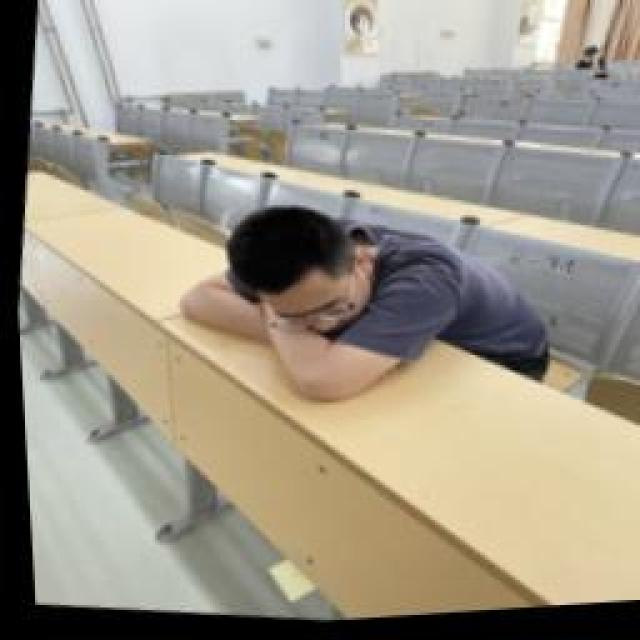sleep: (160, 185, 565, 443)
